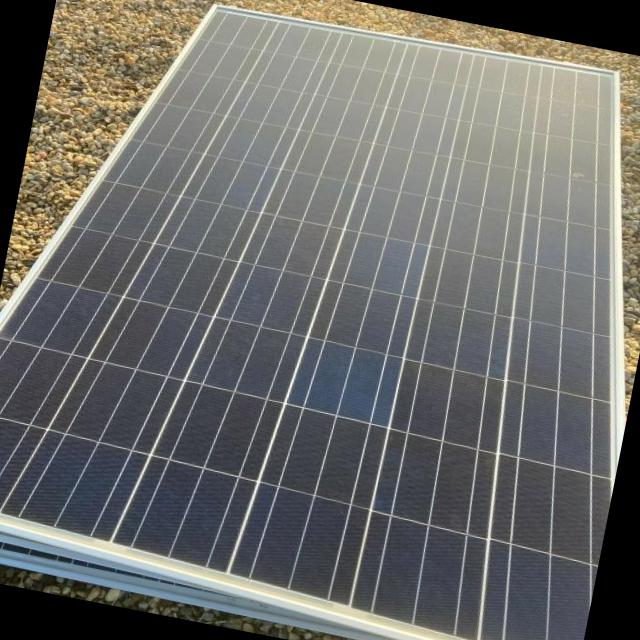faulty: (0, 6, 613, 640)
